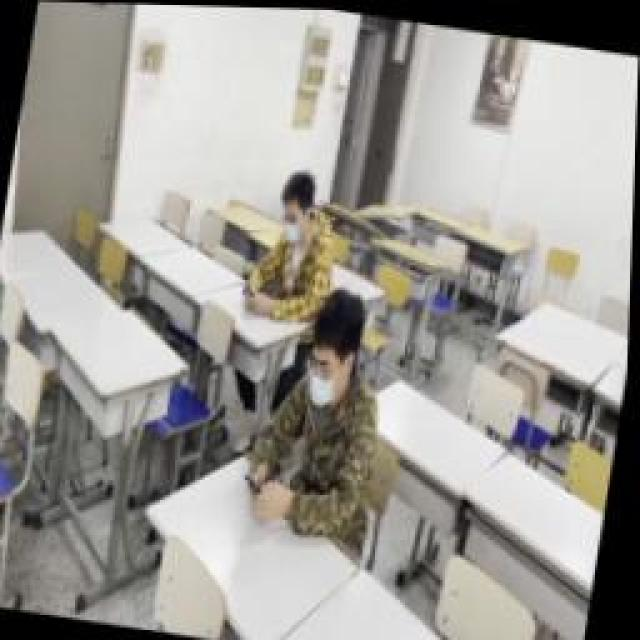phone: (240, 315, 385, 537), (243, 162, 335, 320)
